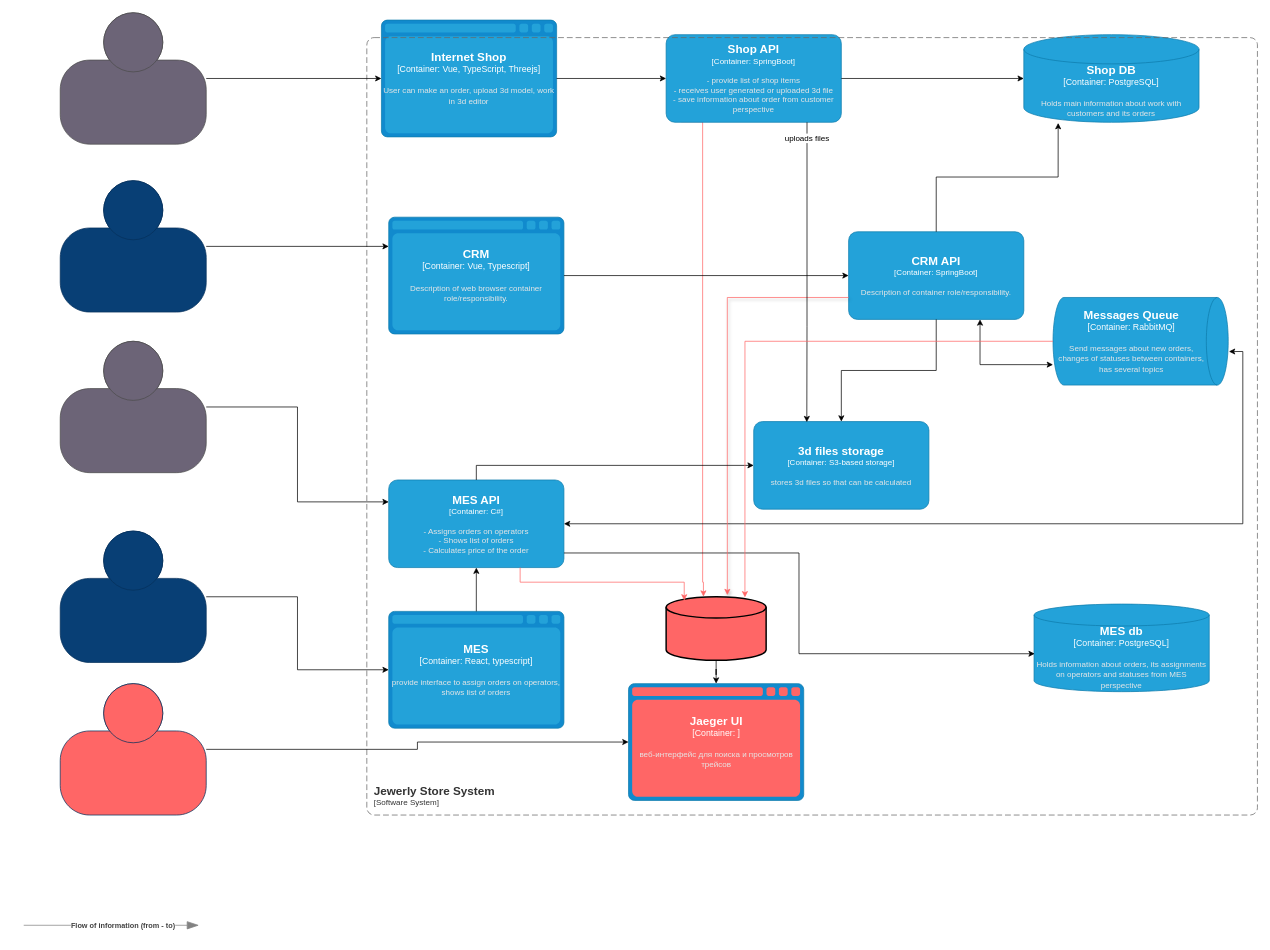
This 1270x950 diagram has some shape labels left out. Each missing label, with the centre of its shape:
API user [Person] Description of external person.: (132,407)
Customer [Person] Description of external person.: (132,78)
Developer [Person] анализирует логи трассирови запросов: (132,749)
Jaeger ( собирает и хранит трассировки запросов): (715,628)
Operator [Person] Takes order in work, manufactures jewerly: (132,596)
Seller [Person] Operates with order, confirms manufacturing for the user: (132,246)
